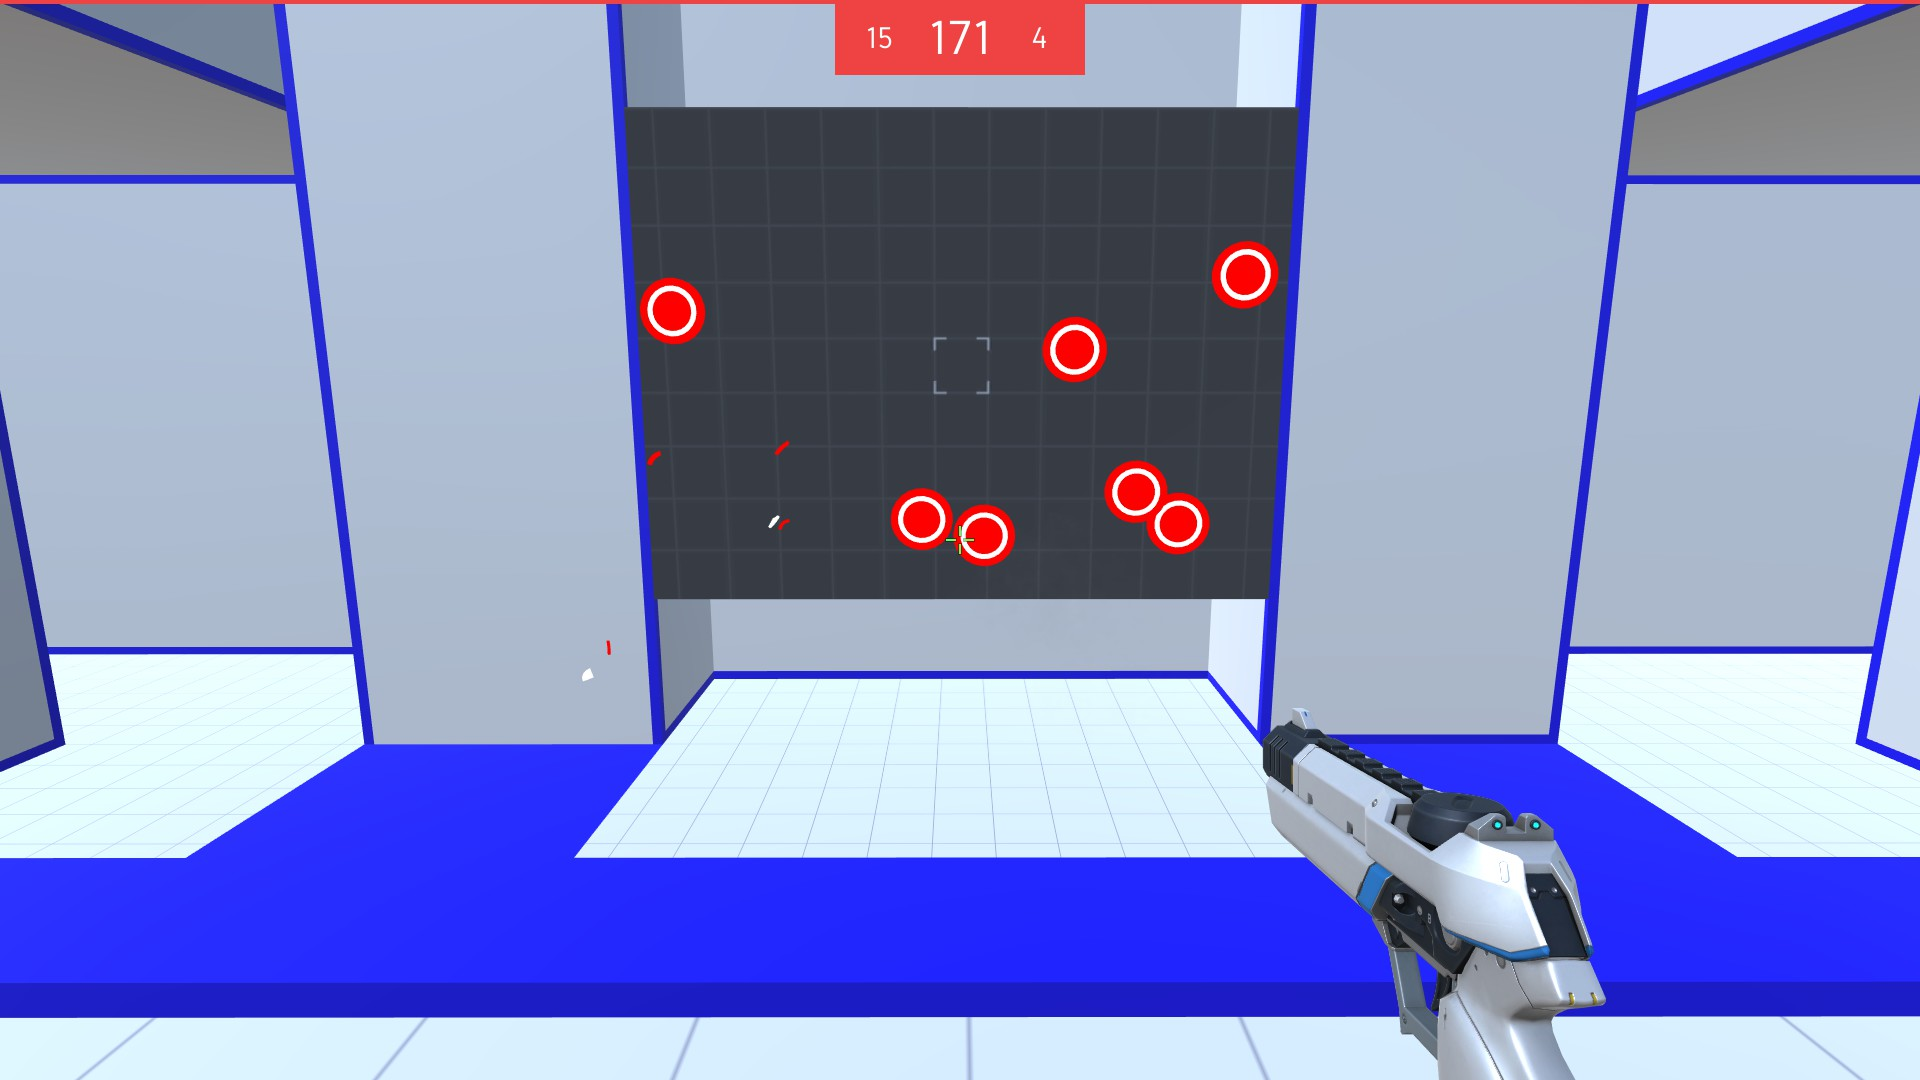target: (1207, 237, 1280, 311), (640, 273, 708, 352), (1145, 488, 1215, 558), (1039, 313, 1108, 382), (886, 484, 953, 554), (1101, 458, 1168, 526), (952, 498, 1015, 571)
